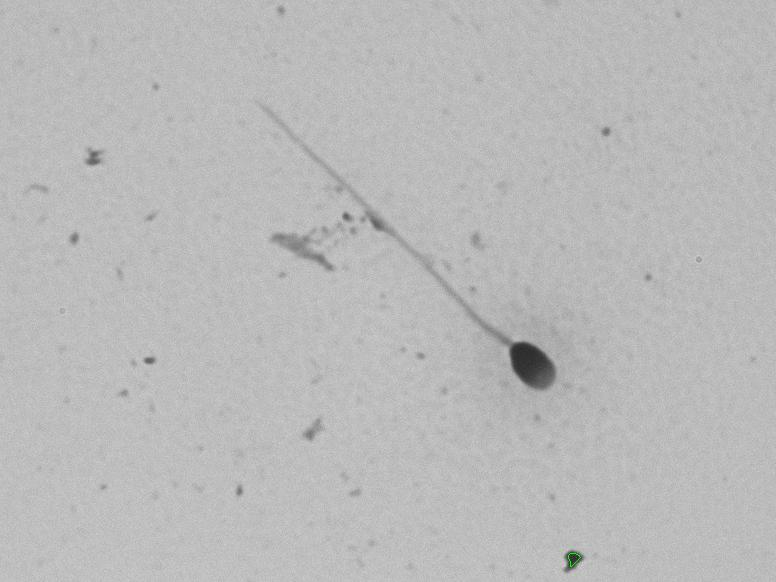Abnormal: (234, 79, 582, 427)
